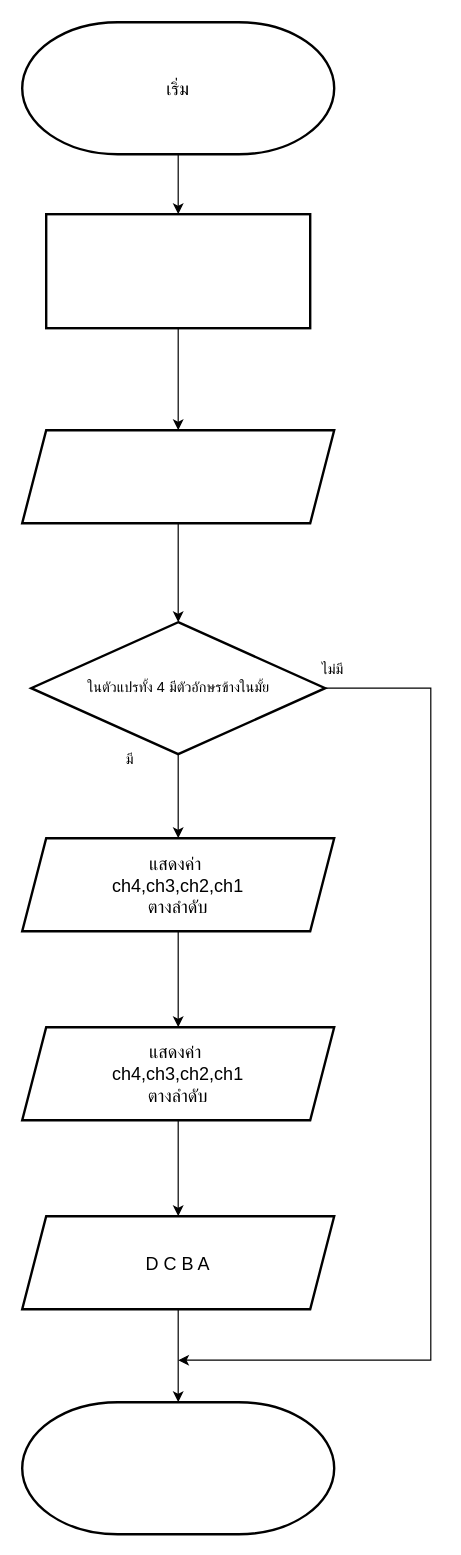
The diagram is 461 pixels wide and 1555 high, and some of its shapes have lost their labels. The centre of each missing label's shape, as x and y in pixels:
"กำหนดตัวแปรชนิด char มา 4 ตัว ch1,ch2,ch3,ch4" belongs at point 177,270.
"จบ" belongs at point 177,1467.
"รับค่าตัวอักษรไปใส่ในตัวแปร 1ตัวต่อ1ตัวแปร A B C D" belongs at point 177,476.
